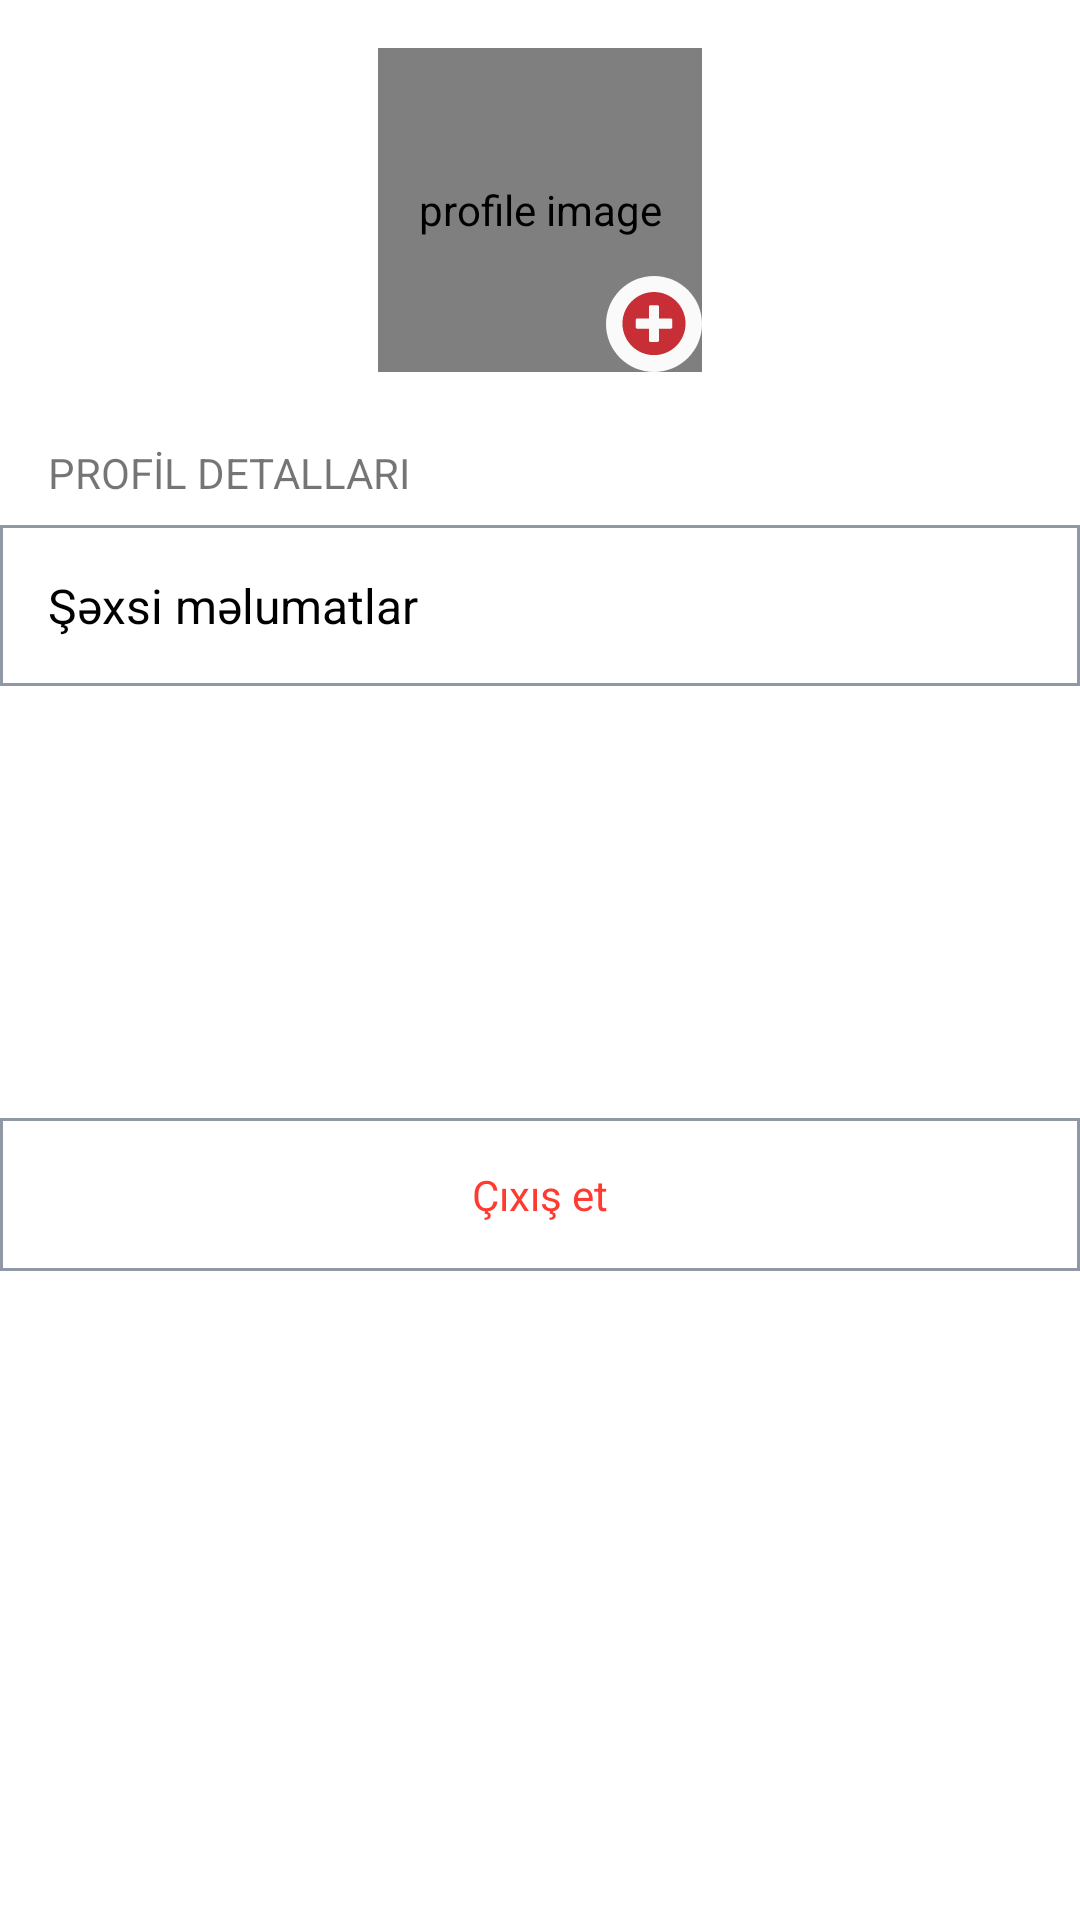

Screen size 1080px×1920px. Icon name, then its center in pixels as [x,y]:
add image button: [654,324]
